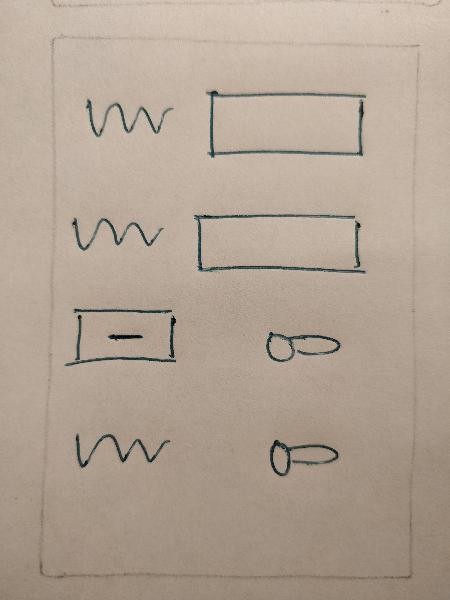button: (60, 301, 185, 376)
switch: (259, 429, 344, 486), (257, 322, 345, 371)
text: (71, 90, 181, 150), (68, 419, 172, 473), (65, 210, 165, 261)
text_input: (199, 81, 371, 169), (188, 208, 374, 282)
